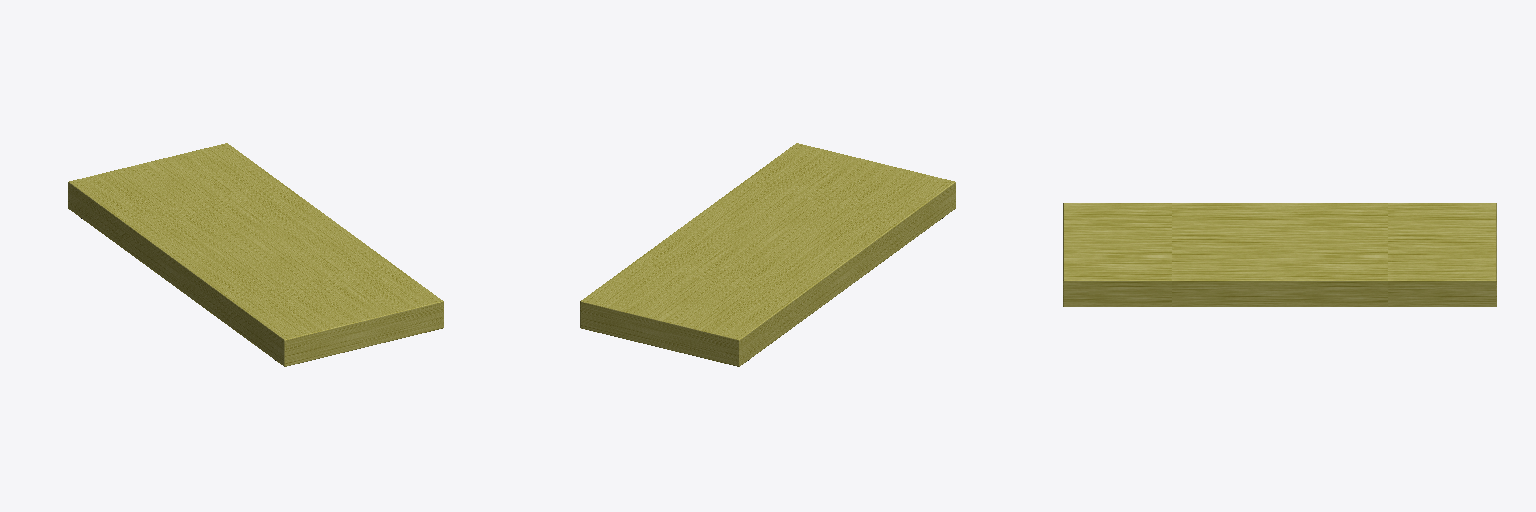
3 views of the same model, side by side, from view 1: azimuth 30°, elevation 25°; view 2: azimuth 150°, elevation 25°; view 3: azimuth 270°, elevation 25° (orthographic).
Visible parts, largest first — view 1: pp52_stell; view 2: pp52_stell; view 3: pp52_stell.
Part boxes in pixels (x1,y1,x2,y2): pp52_stell: (68, 143, 443, 366); pp52_stell: (580, 143, 955, 366); pp52_stell: (1063, 203, 1496, 306).
Size of the model in its own units: 85 by 15 by 200.
Materials: 2 (1 with a texture image).